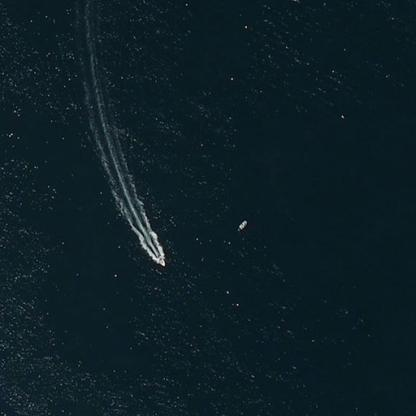ship: (147, 247, 172, 271), (232, 212, 254, 234)
